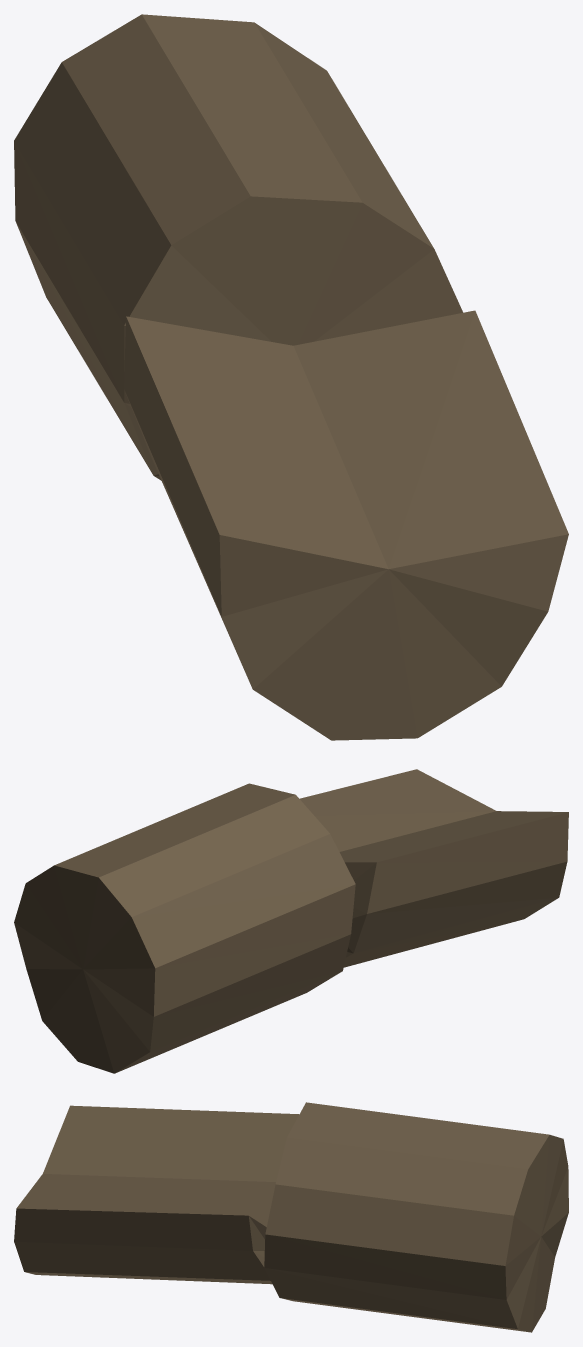
File: ADDON_MAYA_PILLAR_04.OBJ
The picture shows the model from 3 angles, top to bottom: view 1: azimuth 30°, elevation 25°; view 2: azimuth 150°, elevation 25°; view 3: azimuth 270°, elevation 25°; orthographic projection. The views are drawn at different scales.
Parts seen in each view (by area): view 1: ADDON_MAYA_PILLAR_04; view 2: ADDON_MAYA_PILLAR_04; view 3: ADDON_MAYA_PILLAR_04.
Boxes of the visible parts, x1,y1,x2,y2 form: ADDON_MAYA_PILLAR_04: (14, 14, 568, 740); ADDON_MAYA_PILLAR_04: (14, 769, 568, 1073); ADDON_MAYA_PILLAR_04: (14, 1102, 568, 1332).
Size of the model in its own units: 1.36 by 0.8428 by 2.2.
